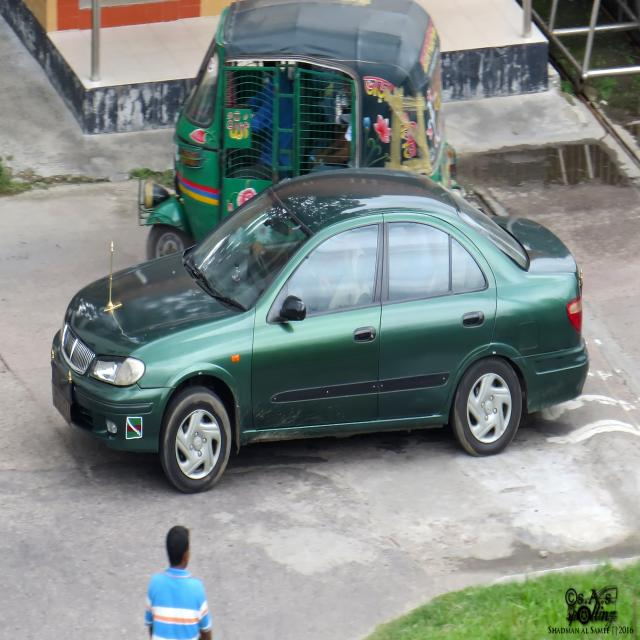green: (42, 180, 593, 469)
